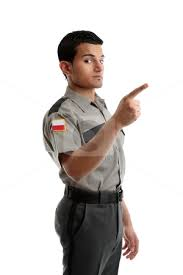hand: (105, 79, 155, 129)
